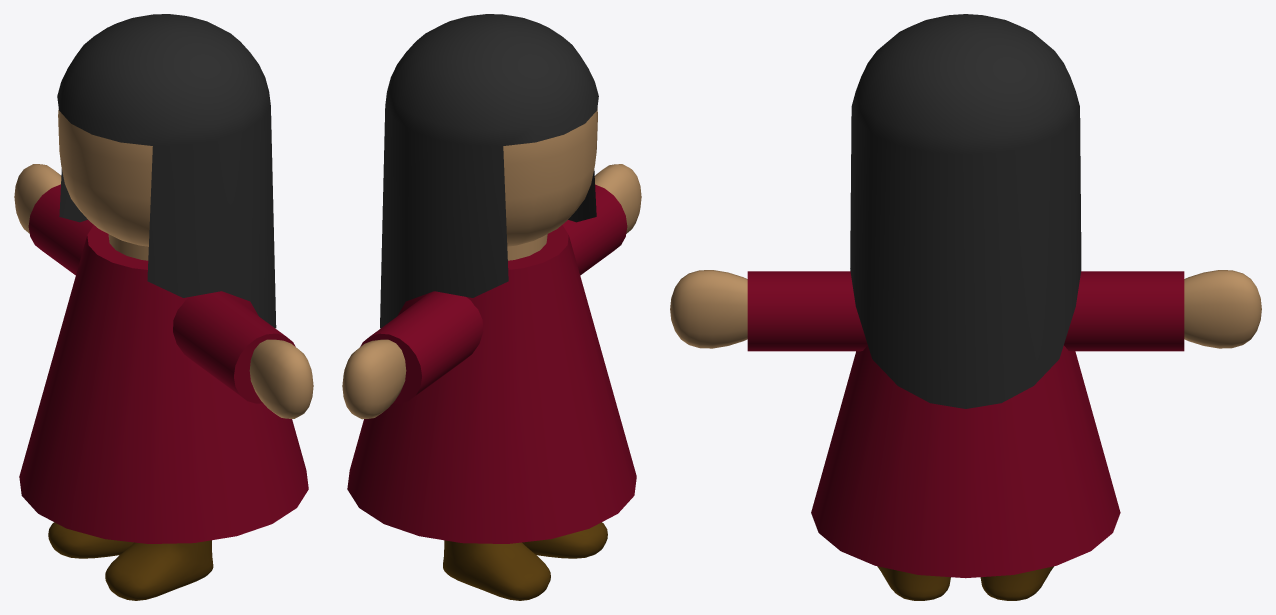
Rendered from character_gen_B.fbx.
3 renders of one model, left to right at view 1: azimuth 30°, elevation 25°; view 2: azimuth 150°, elevation 25°; view 3: azimuth 270°, elevation 25°, orthographic. The views are drawn at different scales.
Visible parts, largest first — view 1: pCylinder24; view 2: pCylinder24; view 3: pCylinder24.
Boxes of the visible parts, <box> form: pCylinder24: <box>14,14,313,600</box>; pCylinder24: <box>342,14,641,600</box>; pCylinder24: <box>670,14,1261,600</box>.
Size of the model in its own units: 1.74 by 3.52 by 3.33.
